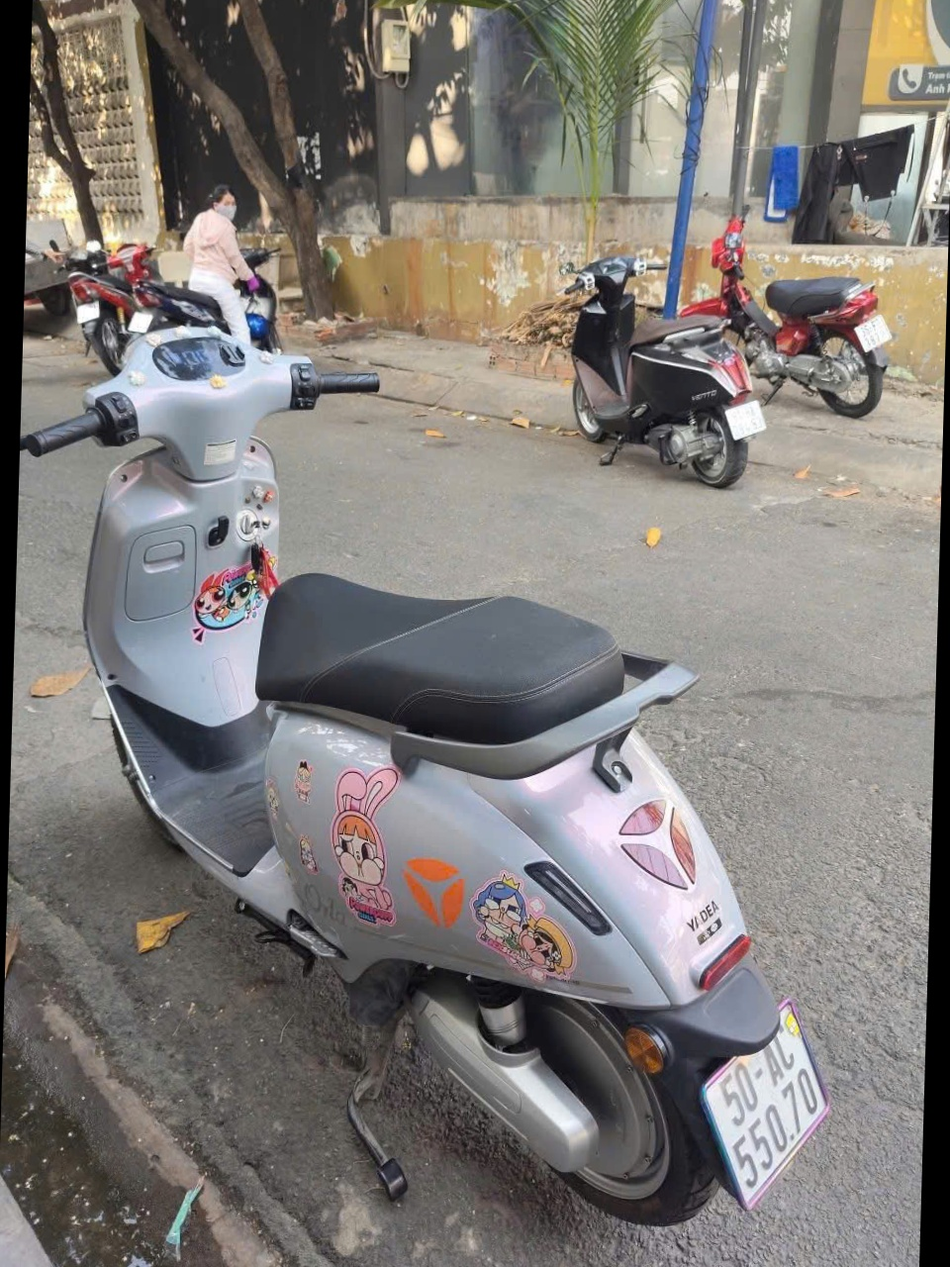Bien-so: (701, 1011, 844, 1224), (701, 408, 756, 452), (840, 317, 882, 352)
